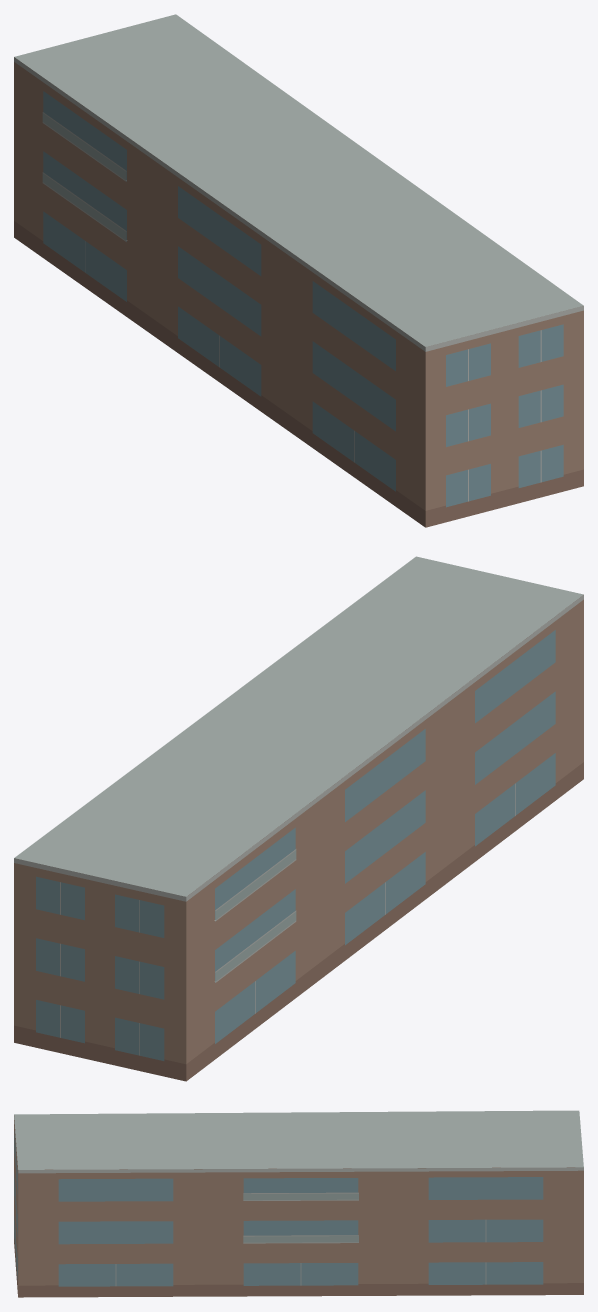
Rendered from survey-upis-32467473.glb.
3 renders of one model, top to bottom at view 1: azimuth 30°, elevation 25°; view 2: azimuth 150°, elevation 25°; view 3: azimuth 270°, elevation 25°, orthographic. The views are drawn at different scales.
Parts seen in each view (by area): view 1: survey-upis-32467473.tmp; view 2: survey-upis-32467473.tmp; view 3: survey-upis-32467473.tmp.
Boxes of the visible parts, x1,y1,x2,y2 form: survey-upis-32467473.tmp: [14, 14, 583, 527]; survey-upis-32467473.tmp: [14, 556, 583, 1081]; survey-upis-32467473.tmp: [14, 1110, 583, 1297].
Bounding box in the file's own units: 9.16 × 9.15 × 37.06.
